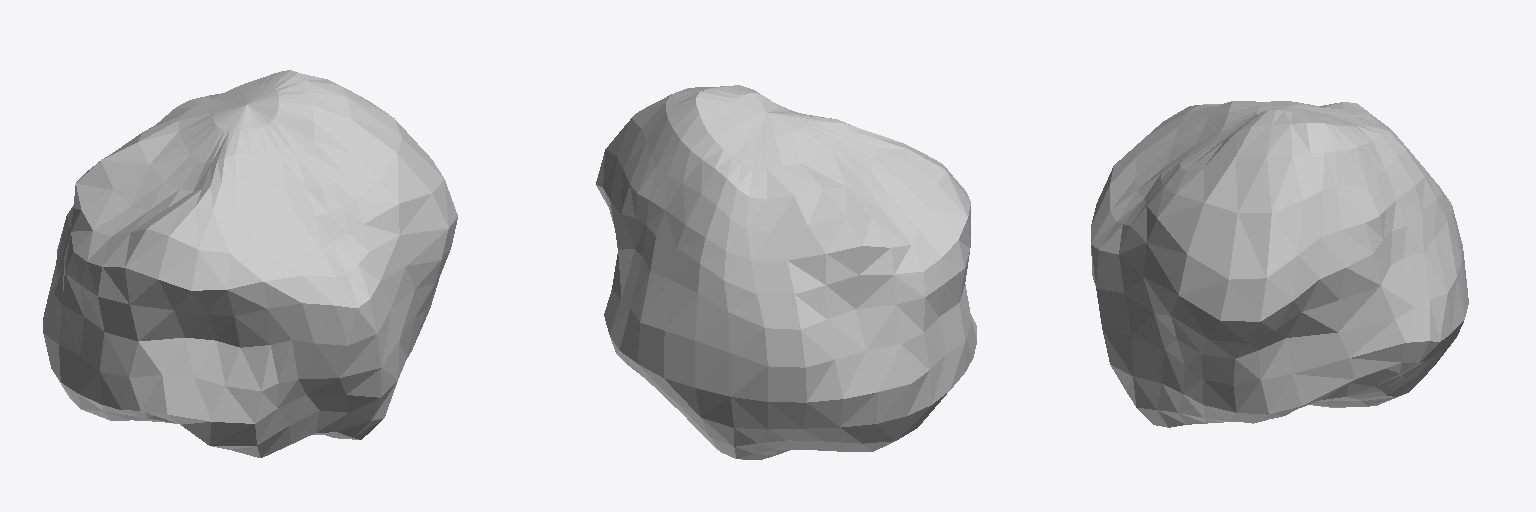
Rendered from Astro.obj.
3 views of the same model, side by side, from view 1: azimuth 30°, elevation 25°; view 2: azimuth 150°, elevation 25°; view 3: azimuth 270°, elevation 25° (orthographic).
Visible parts, largest first — view 1: Sphere; view 2: Sphere; view 3: Sphere.
Boxes of the visible parts, x1=… form: Sphere: x1=43, y1=70, x2=457, y2=457; Sphere: x1=596, y1=85, x2=976, y2=459; Sphere: x1=1091, y1=101, x2=1468, y2=427.
Bounding box in the file's own units: 10 × 8.52 × 9.11.